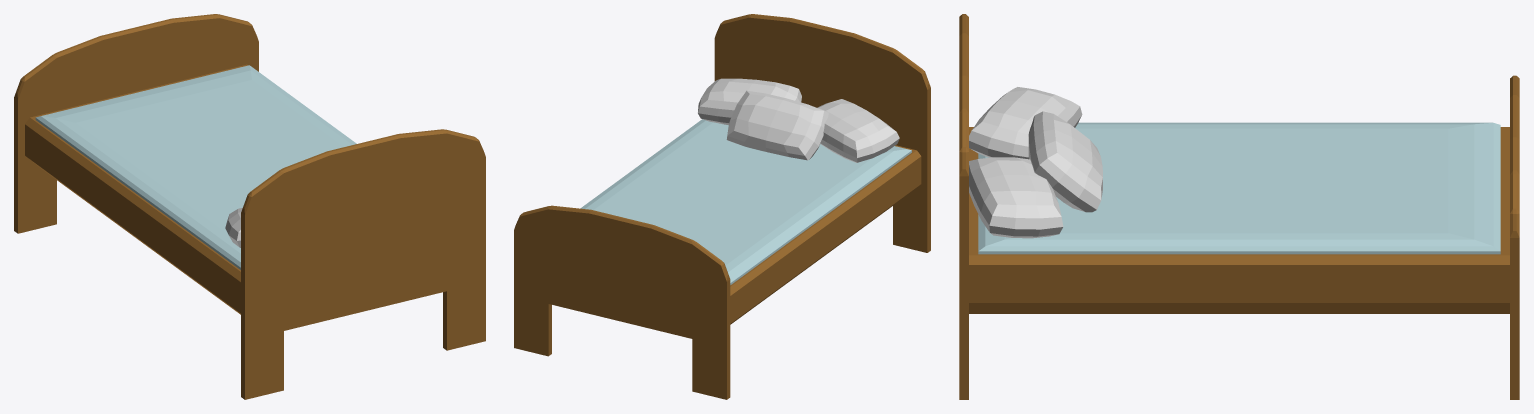
File: bed.fbx
3 renders of one model, left to right at view 1: azimuth 30°, elevation 25°; view 2: azimuth 150°, elevation 25°; view 3: azimuth 270°, elevation 25°, orthographic. The views are drawn at different scales.
Parts seen in each view (by area): view 1: bed, kussen 1; view 2: bed, kussen 3, kussen 1, kussen 2; view 3: bed, kussen 2, kussen 3, kussen 1.
Boxes of the visible parts, <box> form: bed: <box>14,14,485,399</box>; kussen 1: <box>225,207,242,247</box>; bed: <box>514,14,930,399</box>; kussen 3: <box>726,90,828,160</box>; kussen 1: <box>817,99,899,162</box>; kussen 2: <box>698,78,801,124</box>; bed: <box>959,14,1519,399</box>; kussen 2: <box>969,157,1063,238</box>; kussen 3: <box>1028,111,1102,212</box>; kussen 1: <box>969,87,1082,159</box>.
Size of the model in its own units: 117 by 105 by 194.
